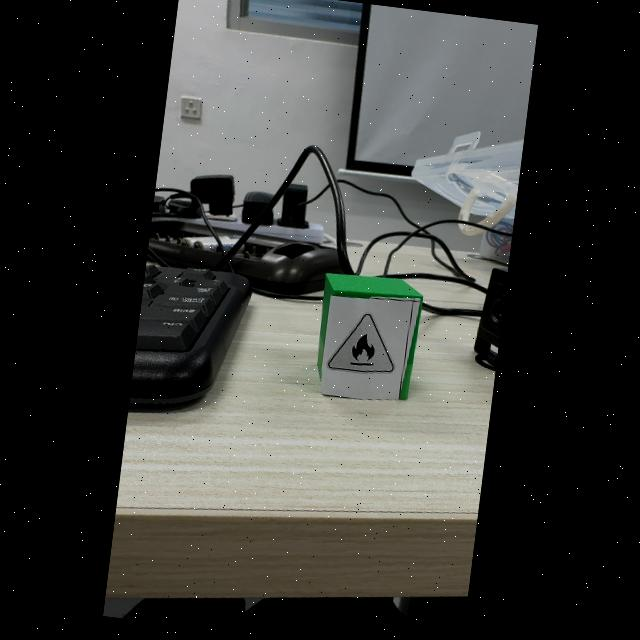Fire: (327, 314, 393, 372)
